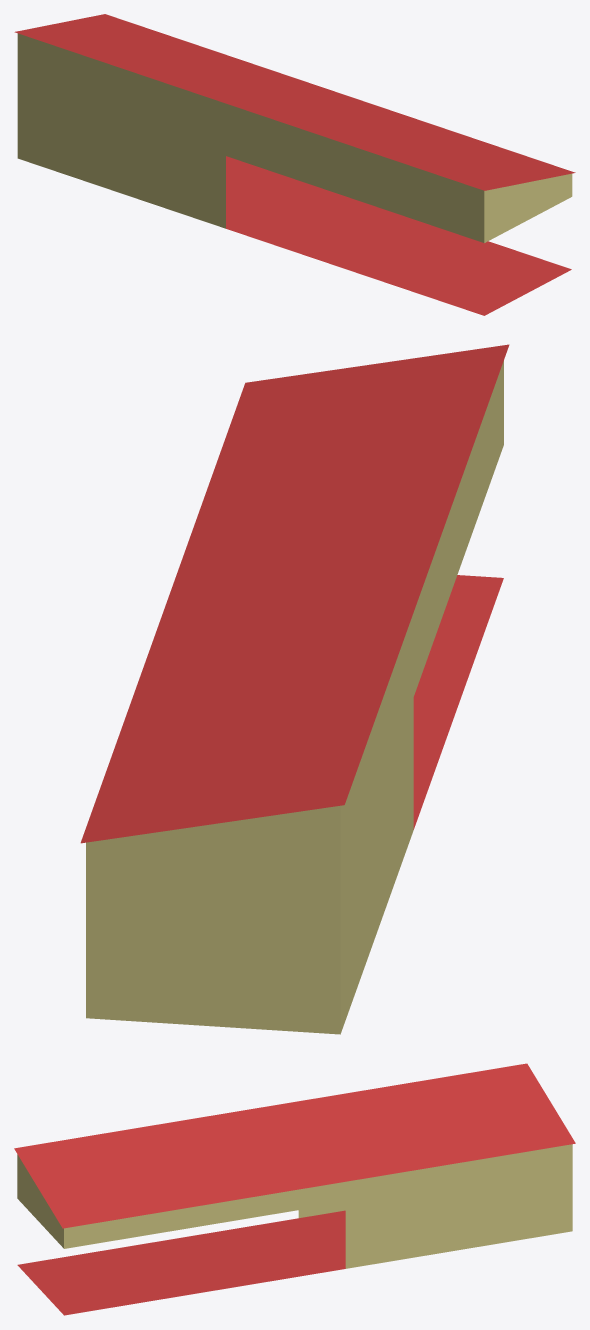
3 renders of one model, top to bottom at view 1: azimuth 30°, elevation 25°; view 2: azimuth 150°, elevation 25°; view 3: azimuth 270°, elevation 25°, orthographic. The views are drawn at different scales.
Bounding box in the file's own units: 33.08 × 57.11 × 12.99.
